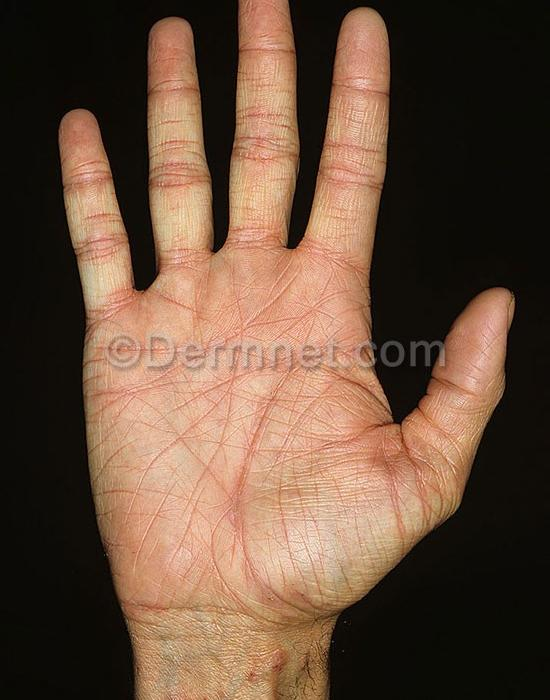liquenificacion 1: (54, 0, 518, 620)
